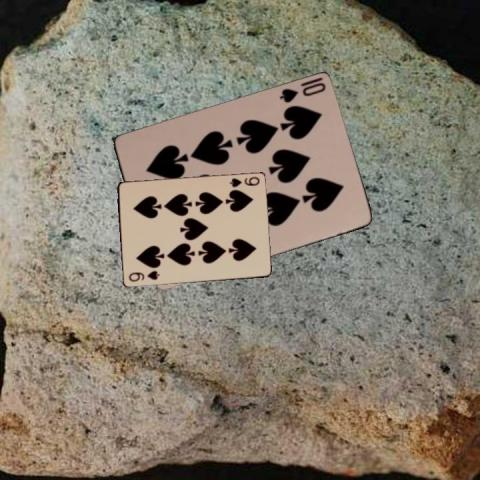10s: (276, 79, 327, 105)
9s: (126, 268, 161, 283), (227, 174, 260, 189)
